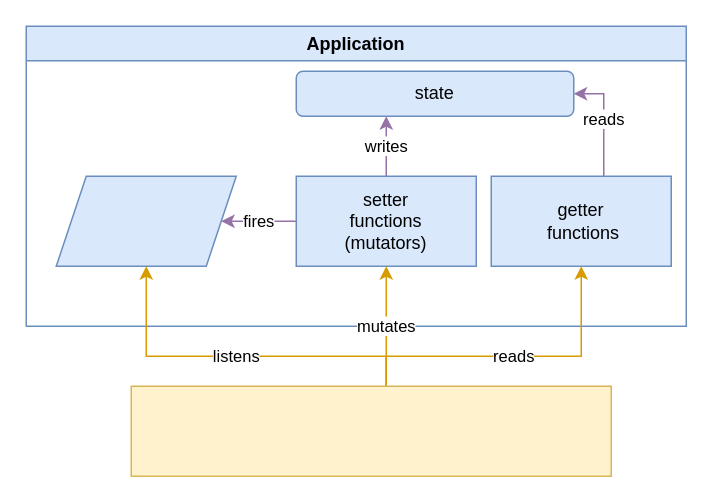
Image size: 713x503. Some labels were removed from this diagram. Here are the shapes that lost their labels. From the top down, the centre of each, then its label:
(x=145, y=220): Events
(x=370, y=430): Presentation
